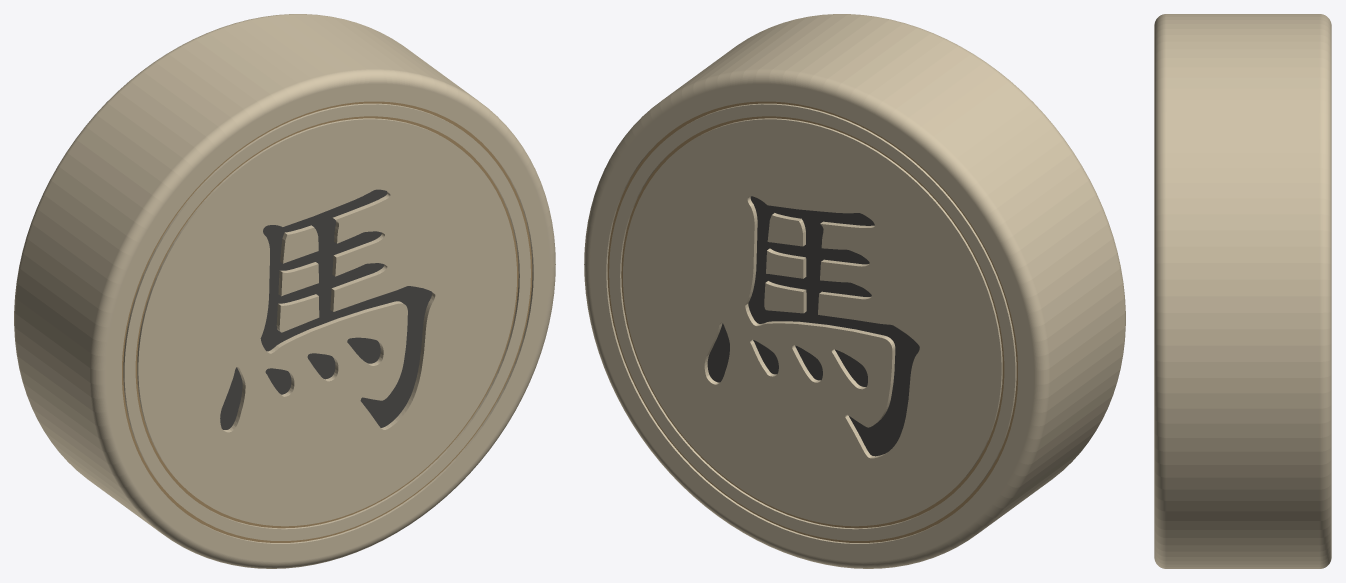
3 views of the same model, side by side, from view 1: azimuth 30°, elevation 25°; view 2: azimuth 150°, elevation 25°; view 3: azimuth 270°, elevation 25° (orthographic). The views are drawn at different scales.
Parts seen in each view (by area): view 1: wood, engraved_letters, engraved_border; view 2: wood, engraved_letters, engraved_border; view 3: wood.
Boxes of the visible parts, <box> form: wood: <box>14,14,555,568</box>; engraved_letters: <box>220,189,432,429</box>; engraved_border: <box>122,101,532,542</box>; wood: <box>584,14,1125,568</box>; engraved_letters: <box>707,196,919,456</box>; engraved_border: <box>607,101,1017,542</box>; wood: <box>1154,14,1331,568</box>.
Size of the model in its own units: 0.047 by 0.047 by 0.015.
